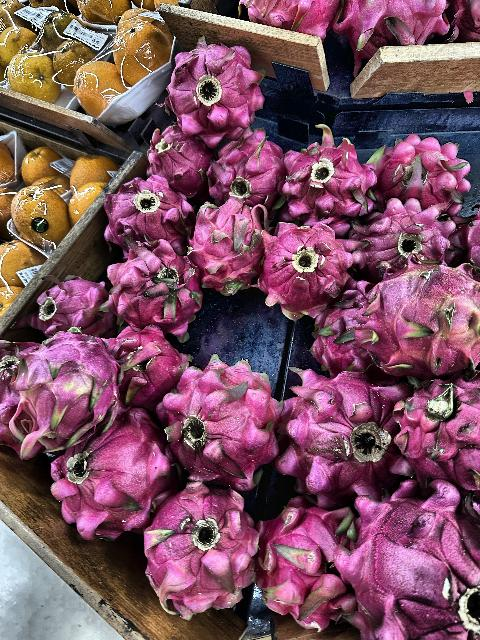buah-naga-belum-matang: (2, 330, 122, 450), (348, 266, 480, 372)
buah-naga-matang: (340, 480, 480, 640), (276, 360, 401, 498), (146, 484, 260, 620), (168, 362, 282, 488), (56, 420, 172, 538), (258, 202, 366, 322), (262, 500, 358, 634), (100, 232, 206, 336), (398, 366, 480, 492), (278, 122, 378, 224), (164, 42, 266, 138), (350, 191, 466, 273), (187, 186, 265, 298), (92, 176, 196, 256), (110, 316, 198, 406), (376, 128, 470, 206), (199, 128, 285, 208), (31, 270, 114, 342), (141, 121, 209, 193), (311, 304, 373, 376)
